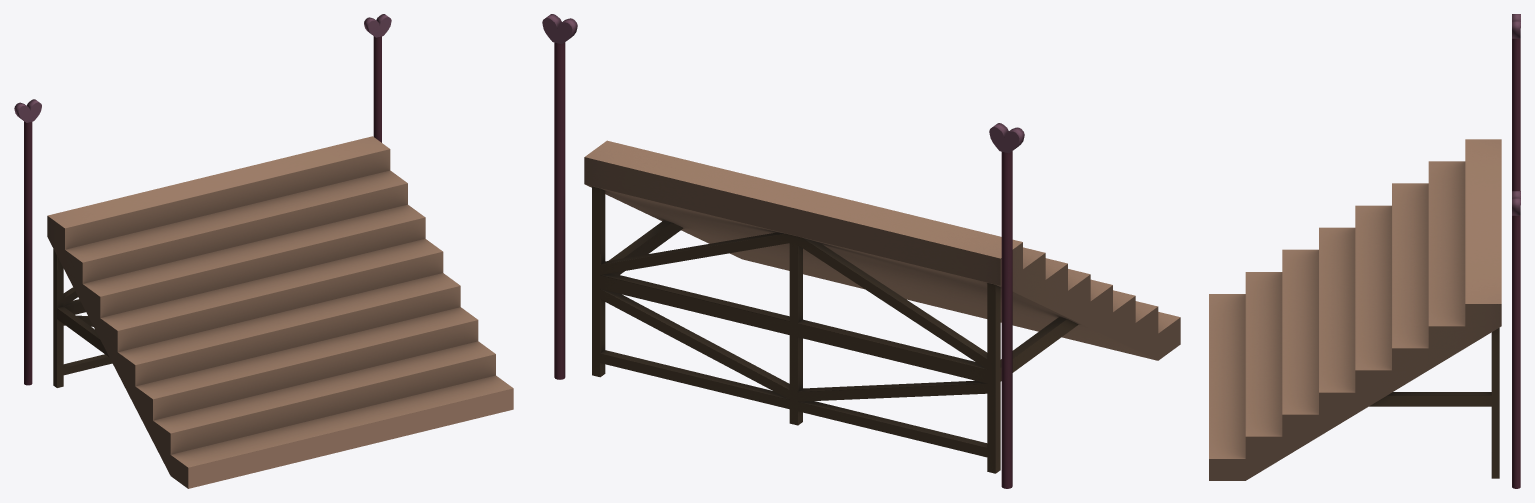
Rendered from BgStands.fbx.
3 views of the same model, side by side, from view 1: azimuth 30°, elevation 25°; view 2: azimuth 150°, elevation 25°; view 3: azimuth 270°, elevation 25° (orthographic). The views are drawn at different scales.
Visible parts, largest first — view 1: BgStands; view 2: BgStands; view 3: BgStands.
Boxes of the visible parts, x1=… form: BgStands: x1=14, y1=14, x2=513, y2=488; BgStands: x1=542, y1=14, x2=1180, y2=488; BgStands: x1=1209, y1=14, x2=1520, y2=488.
Size of the model in its own units: 917 by 660 by 639.
Materials: 1 (1 with a texture image).
